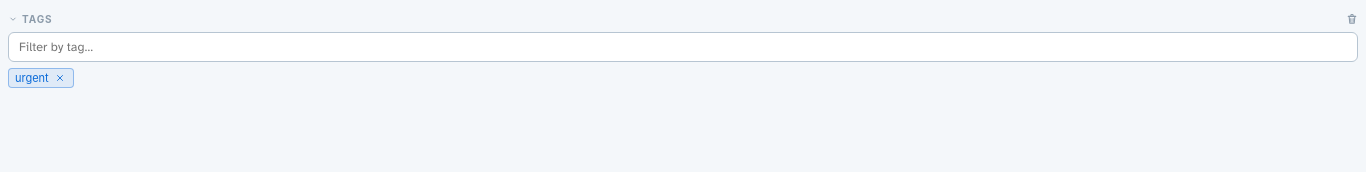
Test: TagFilter › excludes already-selected tags from the dropdown
The image size is (1366, 172).
Click the dropdown with placeholder "Filter by tag…": (683, 46) [8,32,1358,62]
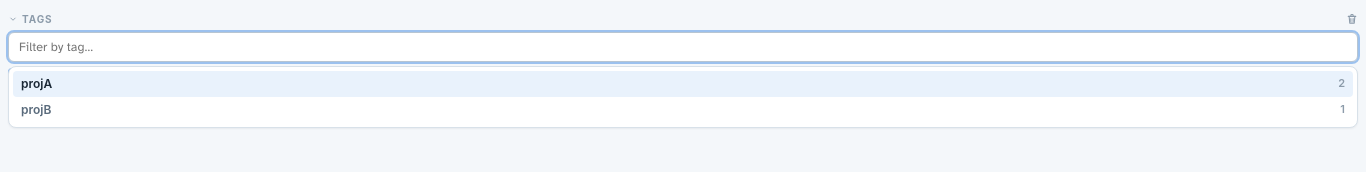
Expected: the option "projA 2" is shown, [13,70,1353,96]
